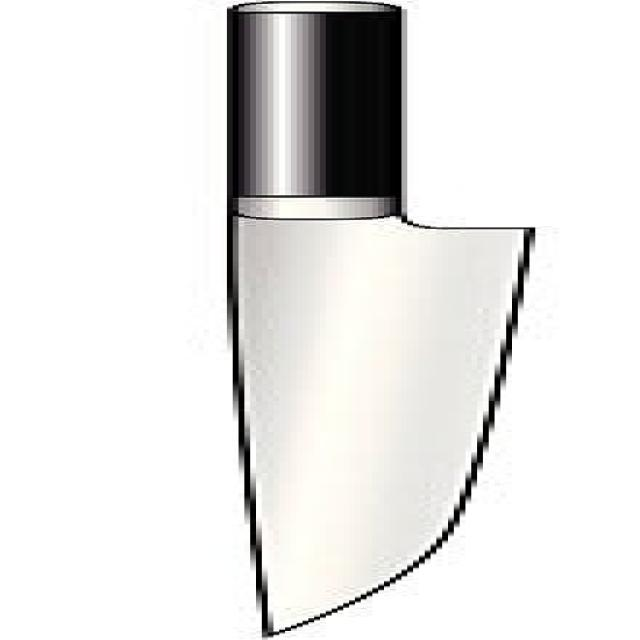knife: (142, 1, 583, 640)
